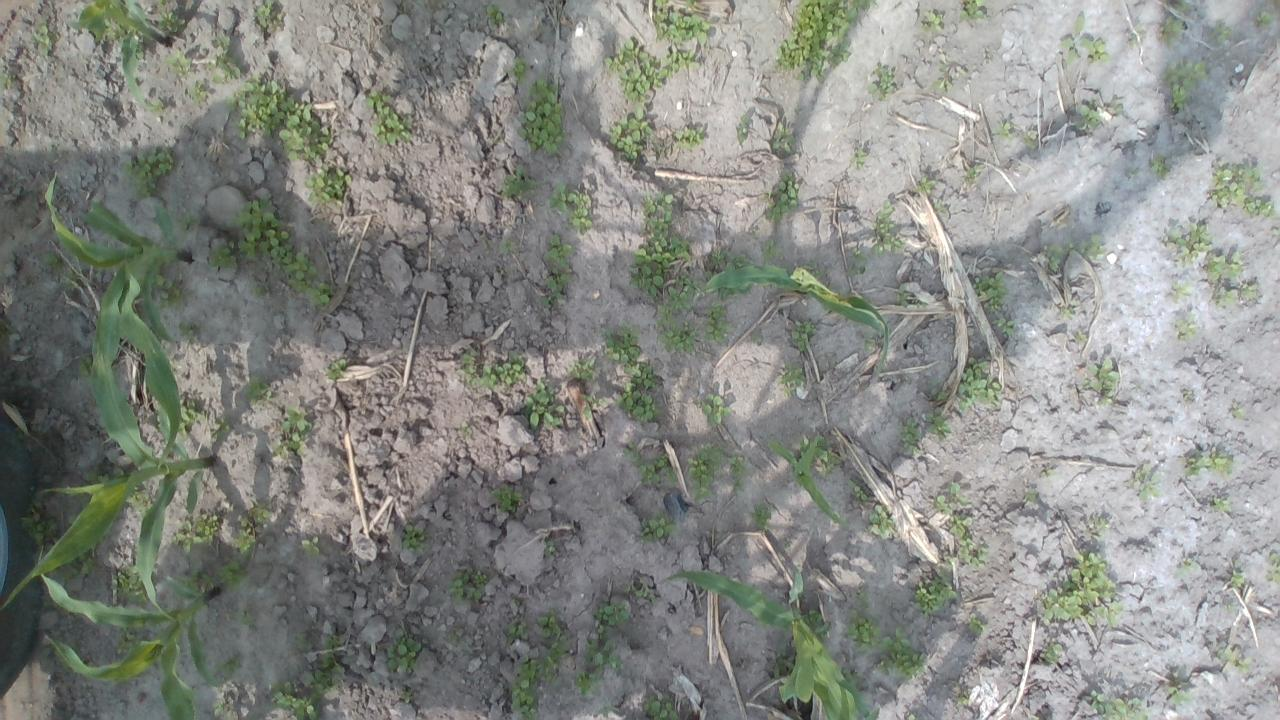Maize: (0, 268, 217, 626), (43, 172, 193, 472), (35, 548, 223, 720), (662, 562, 866, 720), (702, 260, 892, 378), (71, 0, 168, 112), (768, 429, 848, 527)
Weeds: (228, 78, 334, 160), (774, 0, 876, 82), (1036, 550, 1122, 628), (626, 222, 692, 296), (231, 193, 295, 262), (1210, 160, 1280, 219), (516, 79, 566, 158), (603, 40, 662, 105), (655, 274, 699, 352), (274, 255, 336, 306), (511, 656, 558, 720), (534, 232, 574, 306), (120, 146, 174, 200), (616, 362, 664, 421), (953, 356, 1002, 412), (365, 90, 414, 146), (652, 0, 711, 46), (1162, 57, 1208, 114), (576, 639, 622, 696), (545, 178, 592, 233), (878, 627, 927, 678), (606, 110, 654, 162), (946, 512, 990, 568), (522, 377, 564, 429), (16, 503, 61, 550), (270, 679, 321, 720), (1166, 222, 1214, 264), (1086, 688, 1148, 720), (688, 444, 721, 504), (913, 574, 959, 617), (274, 406, 312, 458), (871, 200, 905, 257), (847, 593, 880, 651), (205, 36, 244, 84), (171, 514, 216, 554), (1082, 359, 1120, 405), (970, 269, 1010, 312), (305, 162, 350, 200), (764, 174, 798, 224), (536, 612, 572, 658), (591, 598, 631, 639), (387, 626, 421, 674), (480, 353, 526, 388), (1182, 445, 1234, 474), (602, 325, 642, 361), (112, 565, 148, 605), (448, 566, 488, 602), (300, 662, 344, 694), (702, 303, 735, 345), (932, 480, 972, 514), (216, 558, 252, 594), (864, 60, 894, 103), (660, 46, 700, 78), (1058, 14, 1084, 63), (487, 484, 528, 514), (502, 164, 536, 200), (638, 190, 676, 222), (640, 512, 678, 544), (1128, 463, 1160, 500), (1208, 251, 1244, 282), (866, 503, 897, 539), (124, 483, 154, 520), (700, 391, 729, 428), (230, 517, 256, 558), (896, 418, 924, 456), (244, 374, 274, 409), (728, 454, 751, 499), (110, 626, 141, 658), (776, 362, 804, 397), (158, 276, 185, 312), (1160, 13, 1186, 50), (802, 608, 832, 640), (254, 0, 284, 31), (1217, 647, 1250, 674), (771, 122, 796, 156), (208, 241, 237, 270), (790, 320, 816, 352), (672, 126, 704, 152), (774, 641, 796, 677), (568, 356, 598, 382), (177, 400, 201, 432), (1074, 103, 1102, 130), (30, 20, 51, 56), (67, 552, 96, 578), (582, 392, 608, 420), (1174, 314, 1200, 342), (1082, 38, 1109, 64), (814, 448, 840, 475), (402, 524, 426, 553), (926, 406, 951, 433), (1045, 243, 1068, 272), (208, 415, 232, 442), (750, 502, 771, 532), (919, 10, 945, 34), (846, 248, 868, 276), (300, 534, 322, 562), (190, 80, 210, 109), (322, 356, 346, 380), (462, 350, 478, 386), (846, 480, 870, 503), (250, 502, 274, 525), (1084, 517, 1110, 538), (214, 654, 242, 673), (1167, 684, 1191, 706), (102, 16, 123, 41), (509, 56, 528, 83), (1149, 154, 1170, 178), (76, 352, 94, 380), (158, 11, 182, 32), (175, 320, 200, 340), (486, 4, 506, 29), (1265, 552, 1280, 584), (80, 468, 110, 484), (639, 463, 660, 485), (736, 112, 750, 145), (1084, 234, 1104, 257), (991, 316, 1014, 336), (143, 95, 166, 115), (320, 638, 337, 664), (171, 54, 192, 75), (178, 212, 198, 234), (961, 0, 984, 19), (914, 176, 939, 193), (507, 623, 528, 643), (40, 252, 62, 271), (208, 701, 230, 720), (1240, 282, 1260, 302), (1172, 284, 1192, 304), (1042, 644, 1062, 664), (62, 268, 82, 288), (997, 120, 1015, 142), (966, 614, 984, 636), (188, 566, 210, 584), (803, 260, 822, 280), (1211, 494, 1232, 512), (541, 539, 560, 558), (1216, 288, 1236, 306), (1177, 558, 1197, 576), (624, 583, 648, 598), (849, 149, 866, 170), (928, 78, 953, 92), (236, 608, 257, 624), (1214, 26, 1232, 44), (731, 254, 754, 268), (761, 238, 777, 258), (930, 385, 950, 400), (292, 632, 309, 649), (1256, 11, 1274, 27), (1023, 129, 1037, 149), (654, 455, 670, 472), (863, 704, 880, 720), (623, 446, 641, 461), (457, 420, 472, 438), (1228, 570, 1244, 586), (0, 70, 11, 92), (1060, 304, 1076, 319), (719, 286, 736, 300), (1230, 401, 1244, 418), (68, 639, 82, 656), (498, 240, 513, 255), (896, 289, 911, 304), (862, 334, 876, 350), (1175, 0, 1191, 14), (1112, 98, 1126, 114), (1038, 467, 1054, 479), (1024, 491, 1038, 504), (399, 690, 412, 704), (933, 201, 946, 215), (966, 164, 978, 179), (134, 43, 146, 58), (702, 270, 718, 281), (738, 284, 752, 296), (250, 286, 266, 296), (712, 253, 724, 264), (666, 470, 678, 481), (111, 467, 123, 478), (446, 632, 458, 643), (1076, 332, 1088, 342), (958, 696, 969, 706), (156, 0, 167, 10), (723, 263, 735, 272), (905, 712, 918, 720), (751, 335, 762, 344), (1068, 240, 1076, 250), (938, 63, 946, 70), (1230, 602, 1237, 610)
